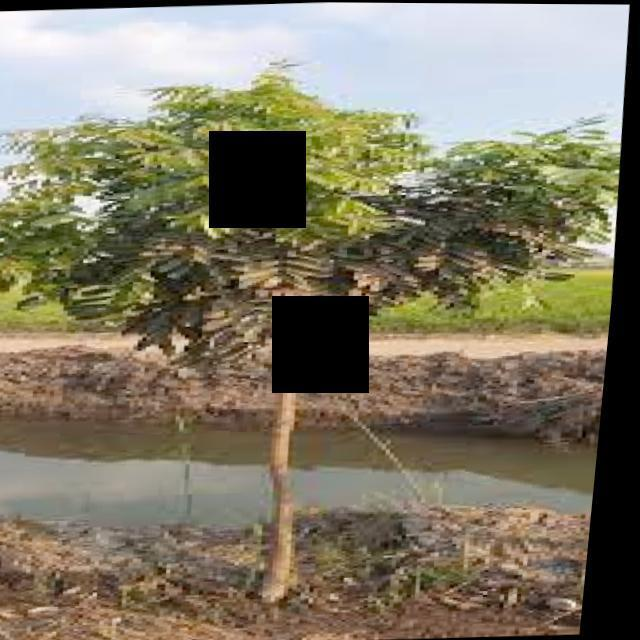tree: (0, 48, 636, 618)
